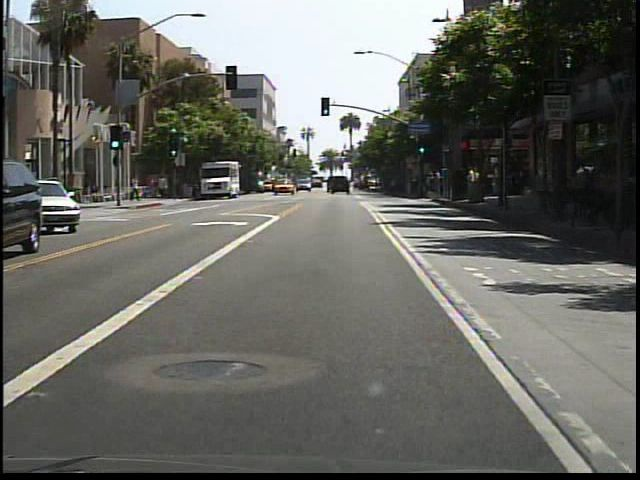person: (130, 172, 143, 204), (157, 173, 171, 201), (150, 176, 162, 199)
